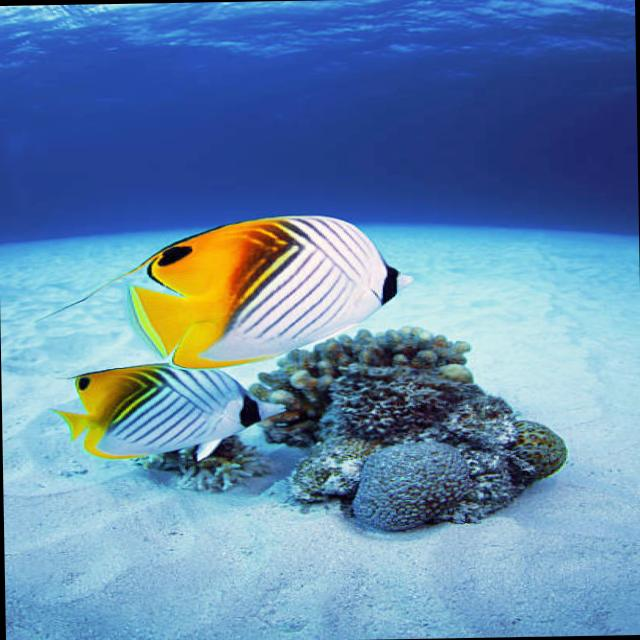ButterflyFish: (133, 216, 410, 366), (56, 364, 284, 462)
